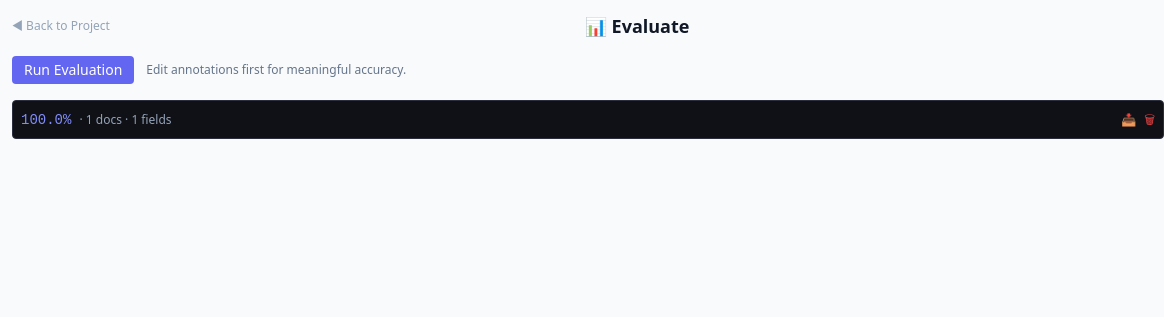
EvaluatePage › expands per-doc rows when 'Show per-doc rows' clicked
Step 1. Click the text "100.0%" → (42, 120), box 21,112 -> 71,128
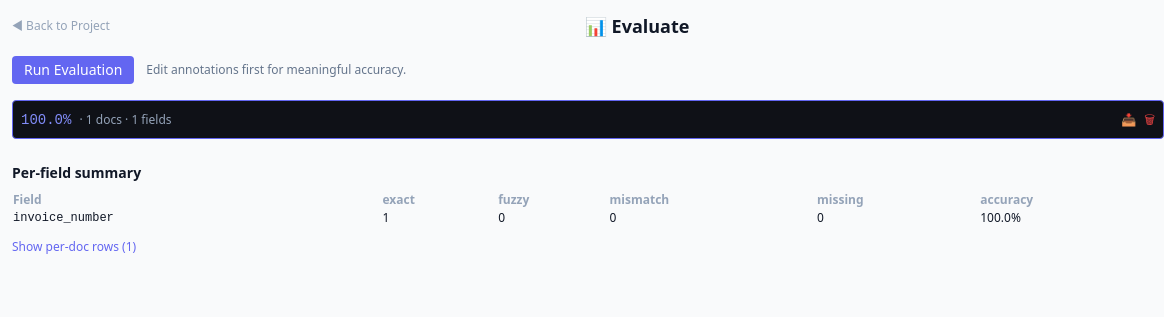
Step 2. Click the button "Show per-doc rows (1)" → (74, 247), box 12,239 -> 136,255
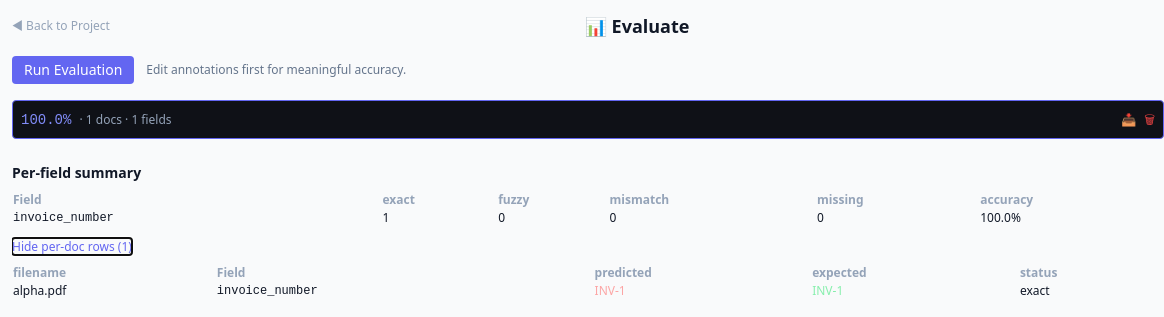
Now the text "alpha.pdf" is shown, box 12,282 -> 216,300
